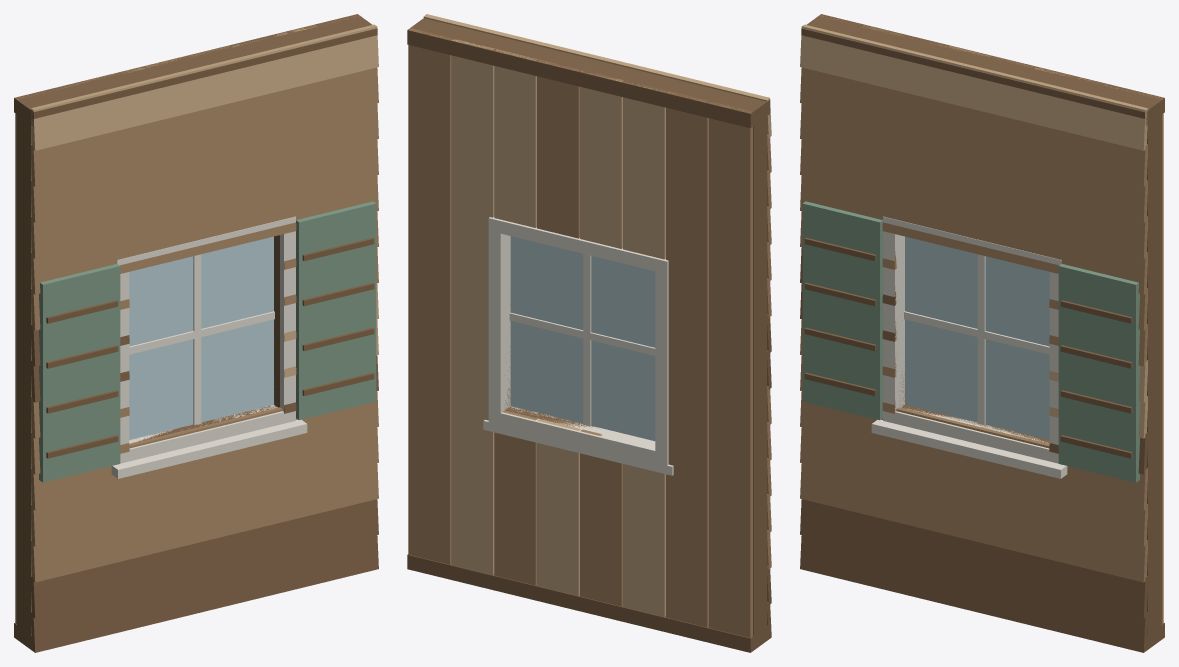
Rendered from SM_Wall_Plank_Window.glb.
3 renders of one model, left to right at view 1: azimuth 30°, elevation 25°; view 2: azimuth 150°, elevation 25°; view 3: azimuth 330°, elevation 25°, orthographic.
Visible parts, largest first — view 1: SM_Wall_Plank_Window; view 2: SM_Wall_Plank_Window; view 3: SM_Wall_Plank_Window.
Part boxes in pixels (x1=…): SM_Wall_Plank_Window: x1=14, y1=14, x2=378, y2=652; SM_Wall_Plank_Window: x1=407, y1=14, x2=771, y2=652; SM_Wall_Plank_Window: x1=800, y1=14, x2=1164, y2=652.
Bounding box in the file's own units: 2 × 3.01 × 0.28.
